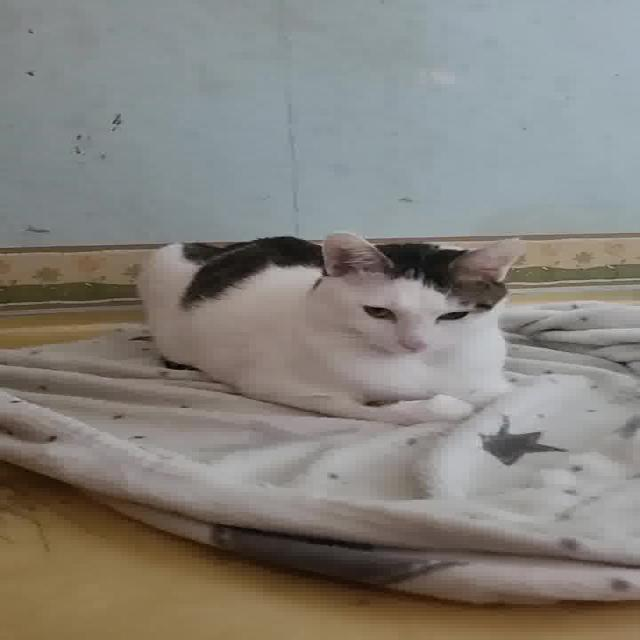cat: (140, 221, 532, 423)
